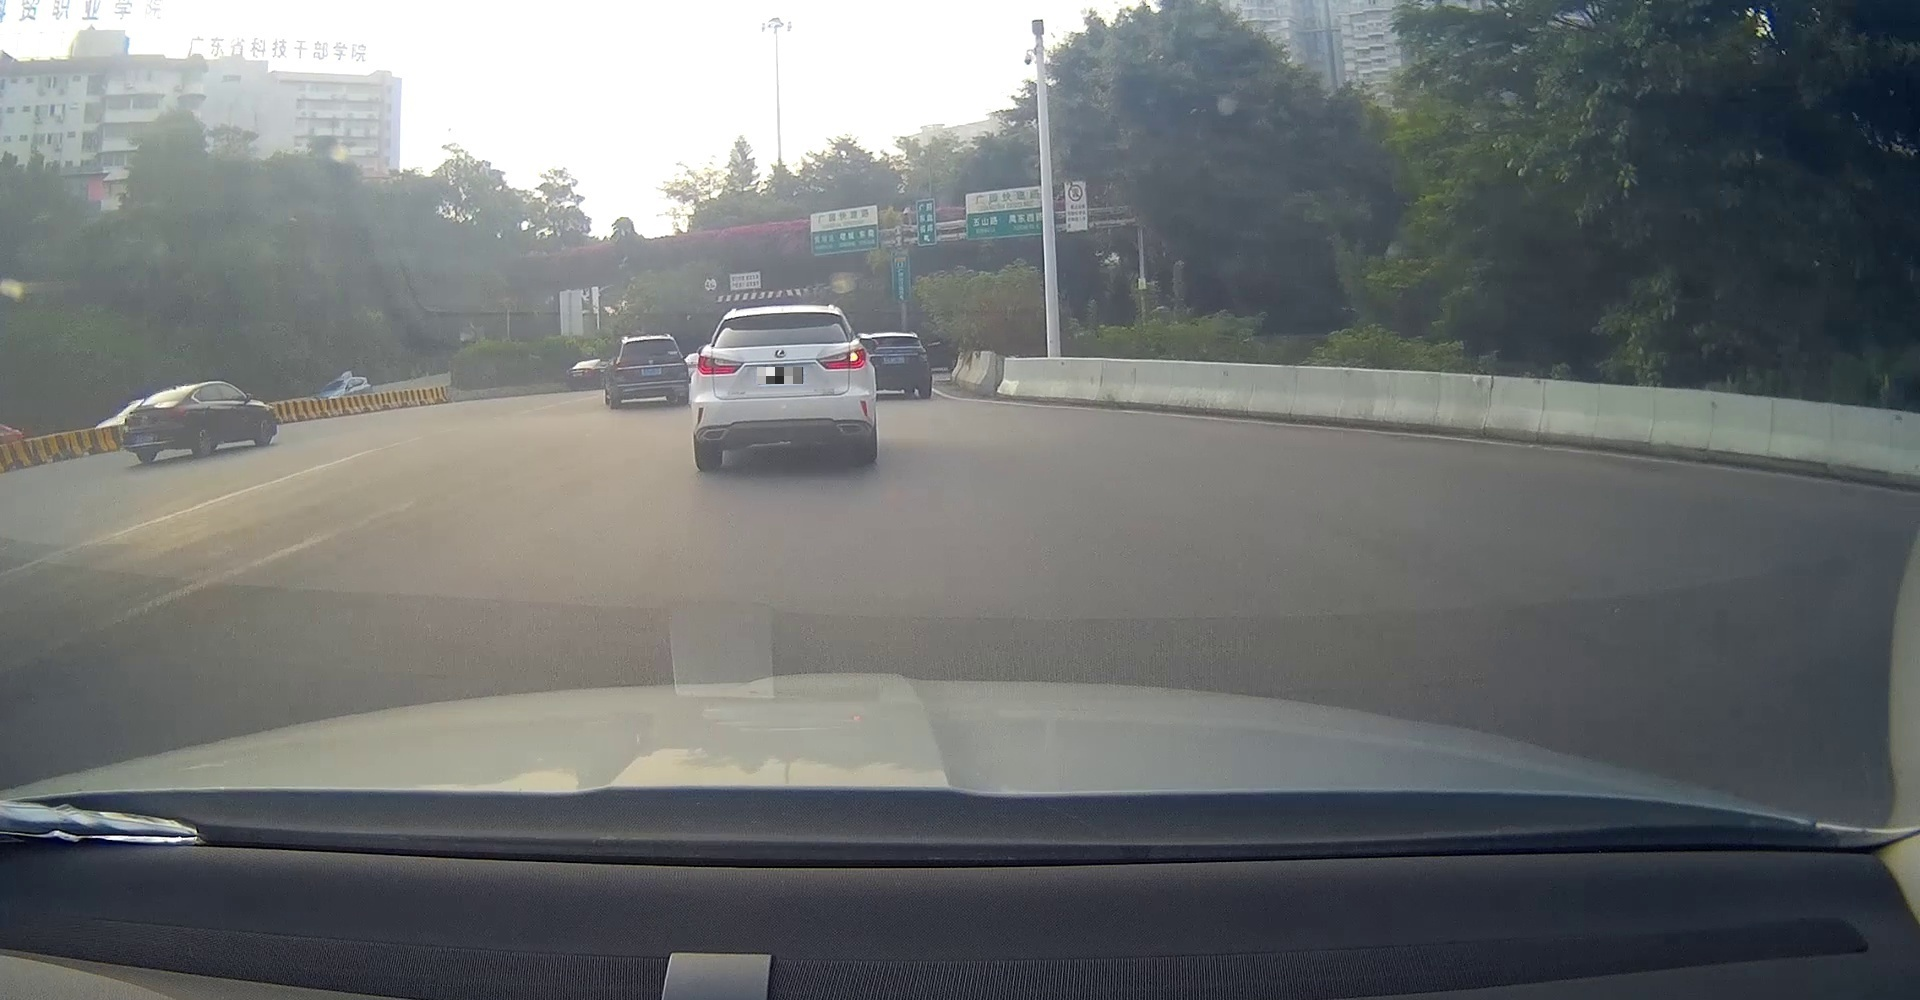L_light: (697, 355, 745, 376), (615, 368, 631, 376), (123, 416, 133, 425)
R_light: (817, 348, 867, 369), (163, 407, 187, 420), (674, 365, 687, 372)
T_light: (767, 313, 792, 319), (643, 339, 657, 343), (168, 390, 177, 393)
day-no: (121, 385, 197, 463), (608, 335, 687, 409)
day-right: (690, 306, 876, 470)
plate_1: (757, 367, 803, 385)
